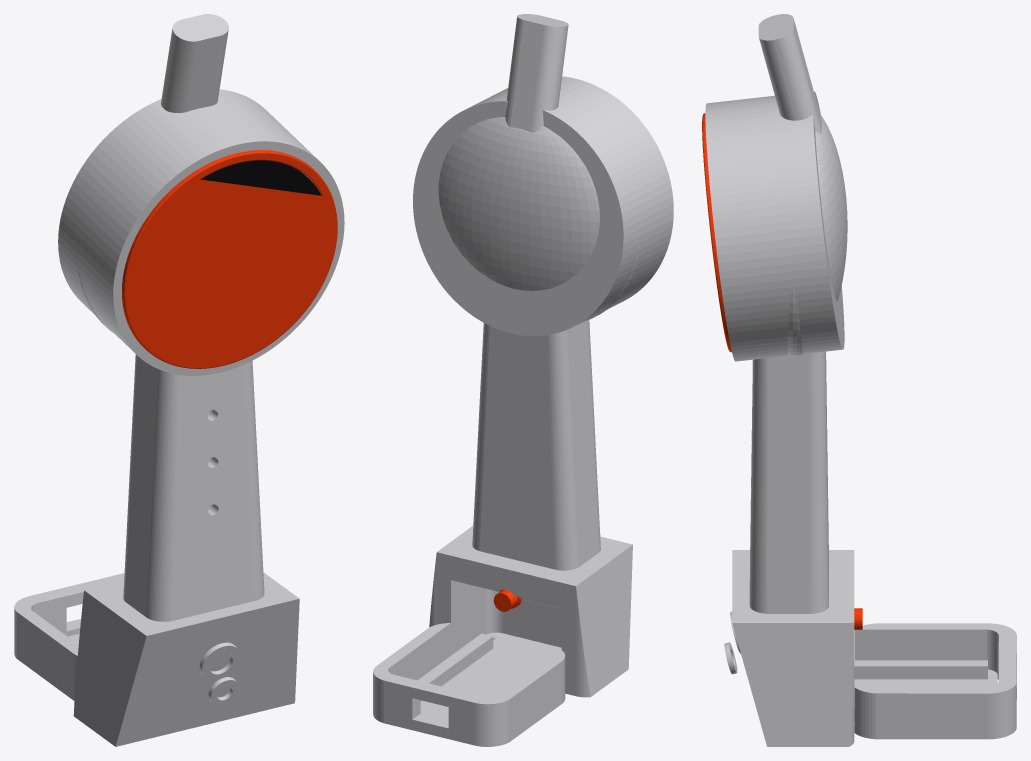
The model's file is StudySense_V4_Complete_Assembly.obj.
3 views of the same model, side by side, from view 1: azimuth 30°, elevation 25°; view 2: azimuth 150°, elevation 25°; view 3: azimuth 270°, elevation 25° (orthographic). The views are drawn at different scales.
Visible parts, largest first — view 1: 02_Neck_and_Head_Pod, 04_Accent_Ring_Orange, 01_Base_Pedestal, 03_Sensor_Faceplate_Black; view 2: 02_Neck_and_Head_Pod, 01_Base_Pedestal, 05_Base_Bottom_Plate; view 3: 02_Neck_and_Head_Pod, 01_Base_Pedestal, 05_Base_Bottom_Plate, 04_Accent_Ring_Orange.
Boxes of the visible parts, box(x1,y1,x2,y2) form: 02_Neck_and_Head_Pod: box(58, 14, 344, 621); 04_Accent_Ring_Orange: box(122, 150, 337, 368); 01_Base_Pedestal: box(14, 572, 299, 746); 03_Sensor_Faceplate_Black: box(200, 160, 321, 195); 02_Neck_and_Head_Pod: box(413, 14, 673, 570); 01_Base_Pedestal: box(373, 525, 632, 746); 05_Base_Bottom_Plate: box(420, 632, 561, 719); 02_Neck_and_Head_Pod: box(705, 14, 847, 613); 01_Base_Pedestal: box(724, 550, 1016, 746); 05_Base_Bottom_Plate: box(854, 669, 997, 732); 04_Accent_Ring_Orange: box(702, 113, 731, 352).
Size of the model in its own units: 72 by 208 by 87.2.
